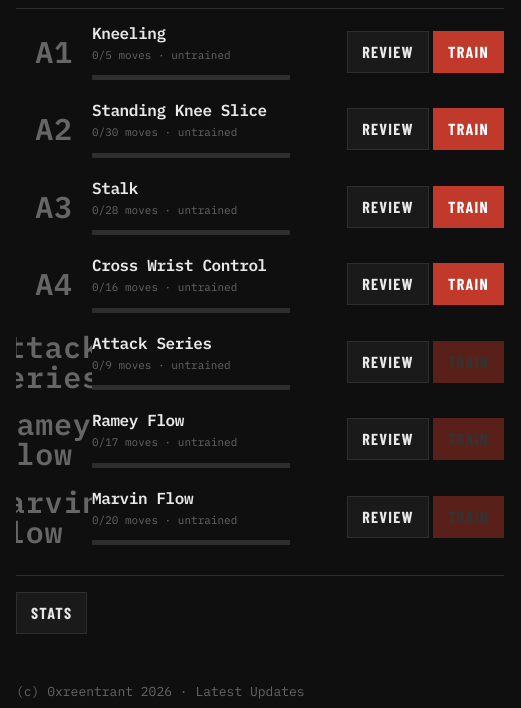
Test: routing › navigates to /progress when Stats is clicked
(page scrolled)
Click the button "Stats" at (52, 613), box [16,592,87,634]
(page scrolled)
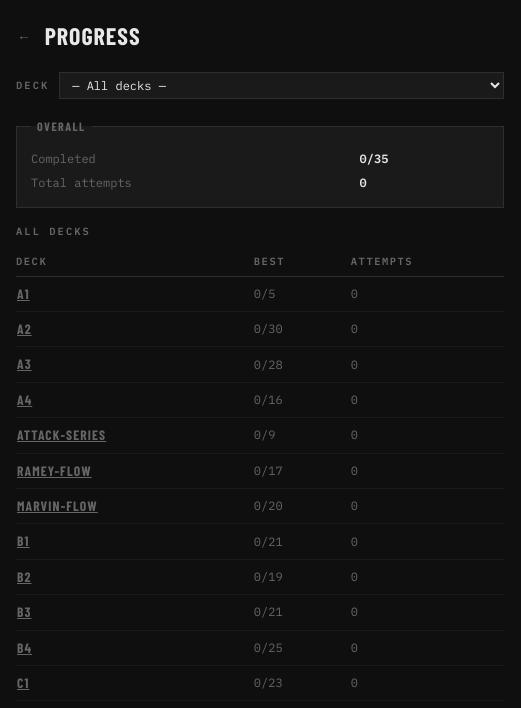
expect the text "All Decks" is shown: met, box [16,224,91,238]
